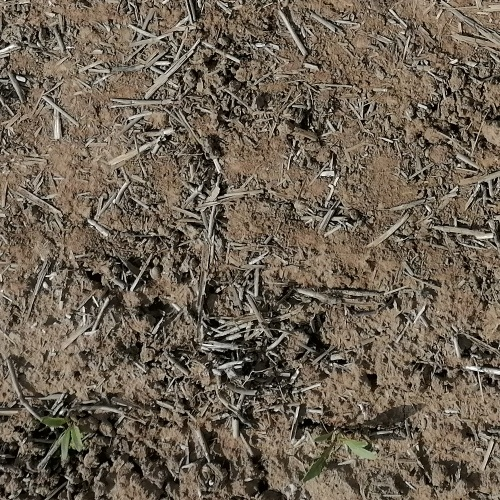beet: (299, 429, 376, 489), (41, 414, 81, 460)
